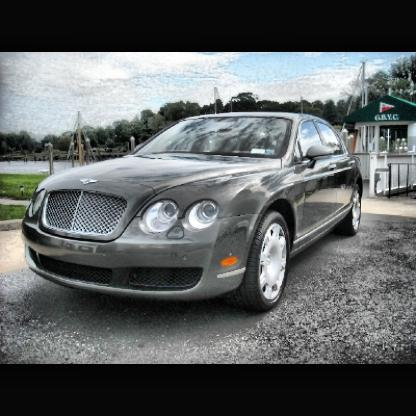Bentley Continental Flying Spur Sedan 2007: (25, 114, 366, 311)
